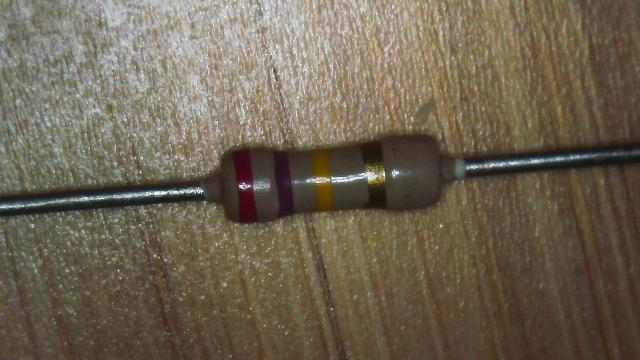gold: (362, 142, 387, 207)
red: (233, 146, 257, 224)
resistor: (200, 126, 462, 234)
violet: (274, 152, 294, 217)
yellow: (314, 146, 334, 208)
